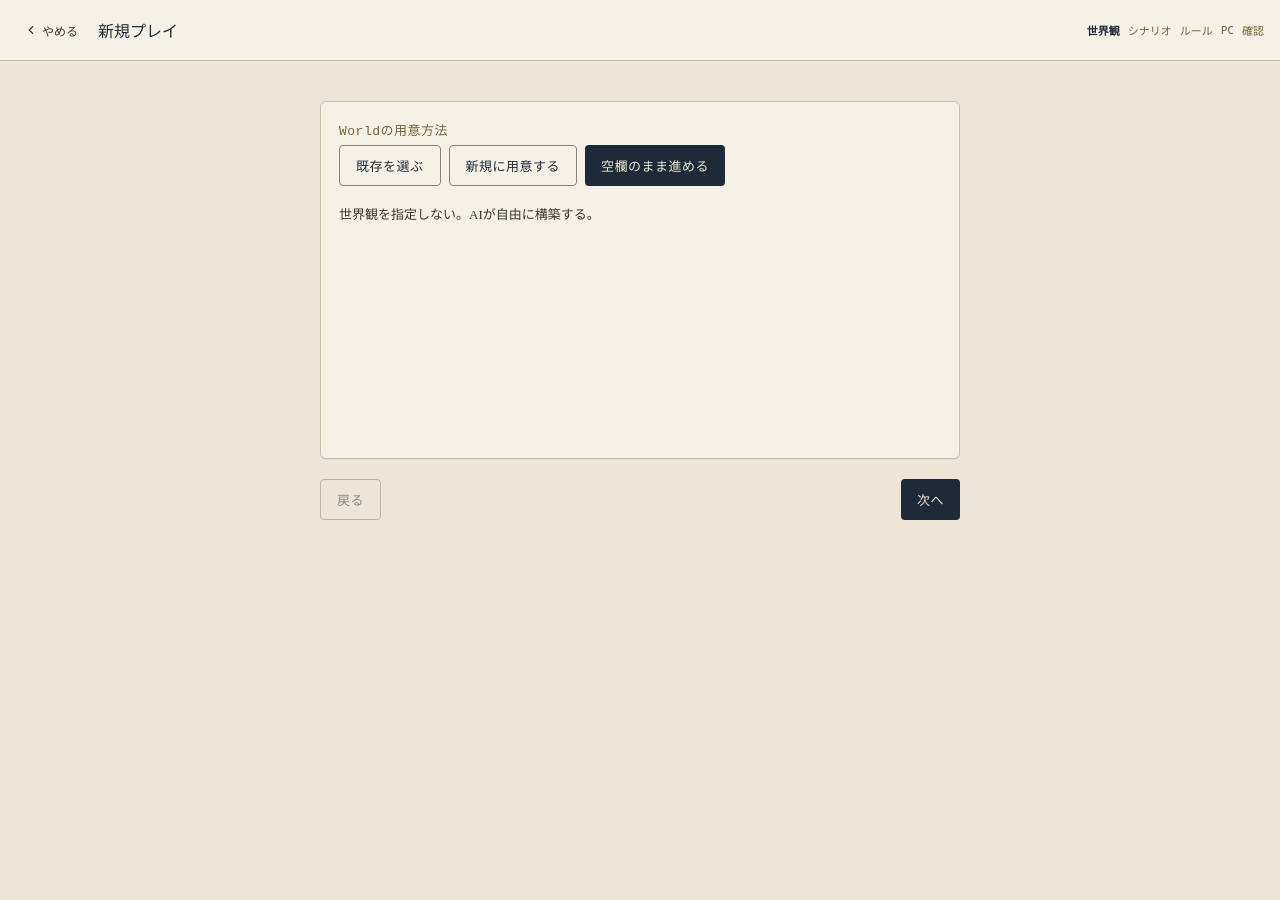
Setup › asks for confirmation before leaving once the wizard has unsaved input
The width and height of the screenshot is (1280, 900).
Click the button "新規に用意する" at (513, 166), box [448,145,577,186]
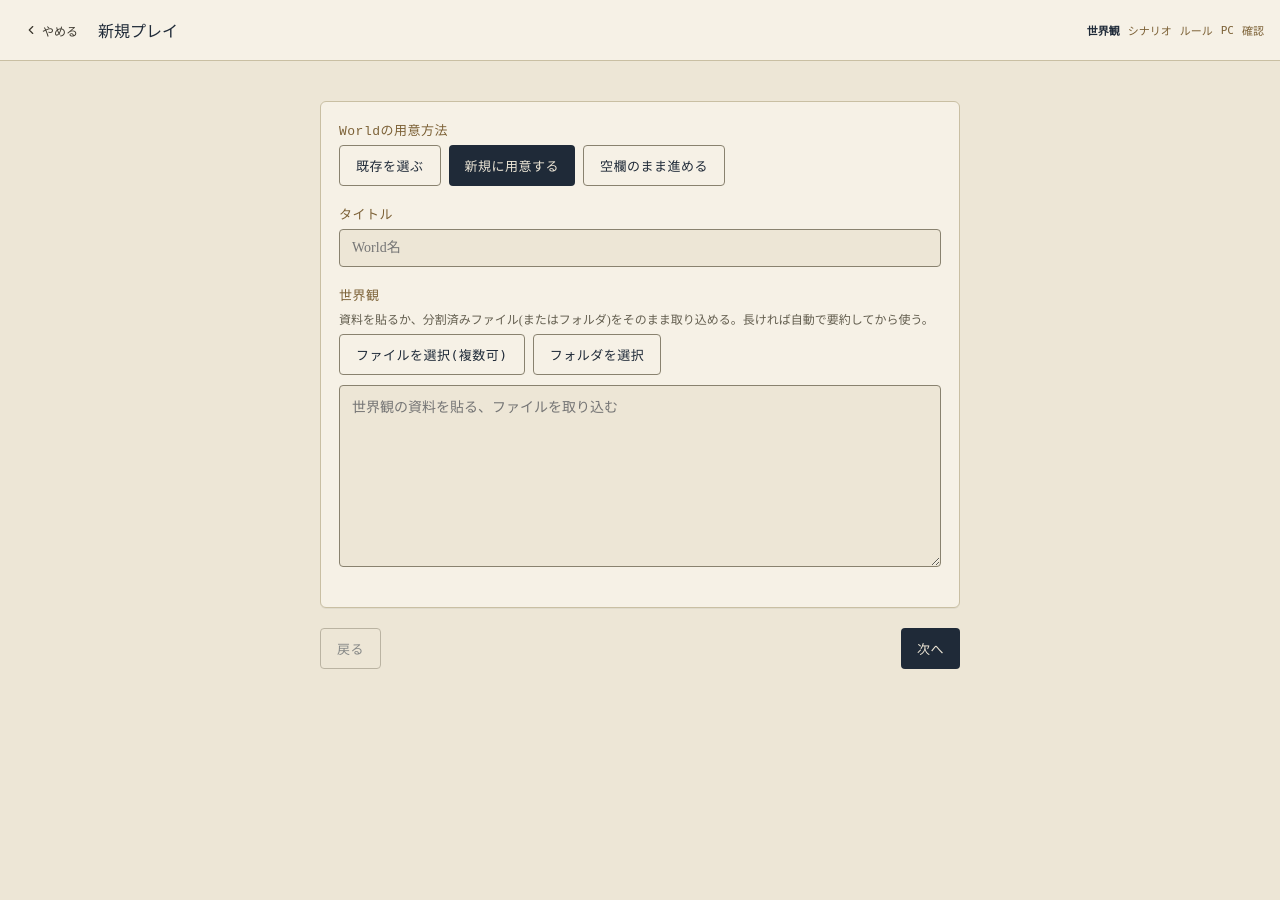
Type "中世風の島国" into the text box with placeholder "世界観の資料を貼る、ファイルを取り込む" at (640, 476), box [339,385,941,567]
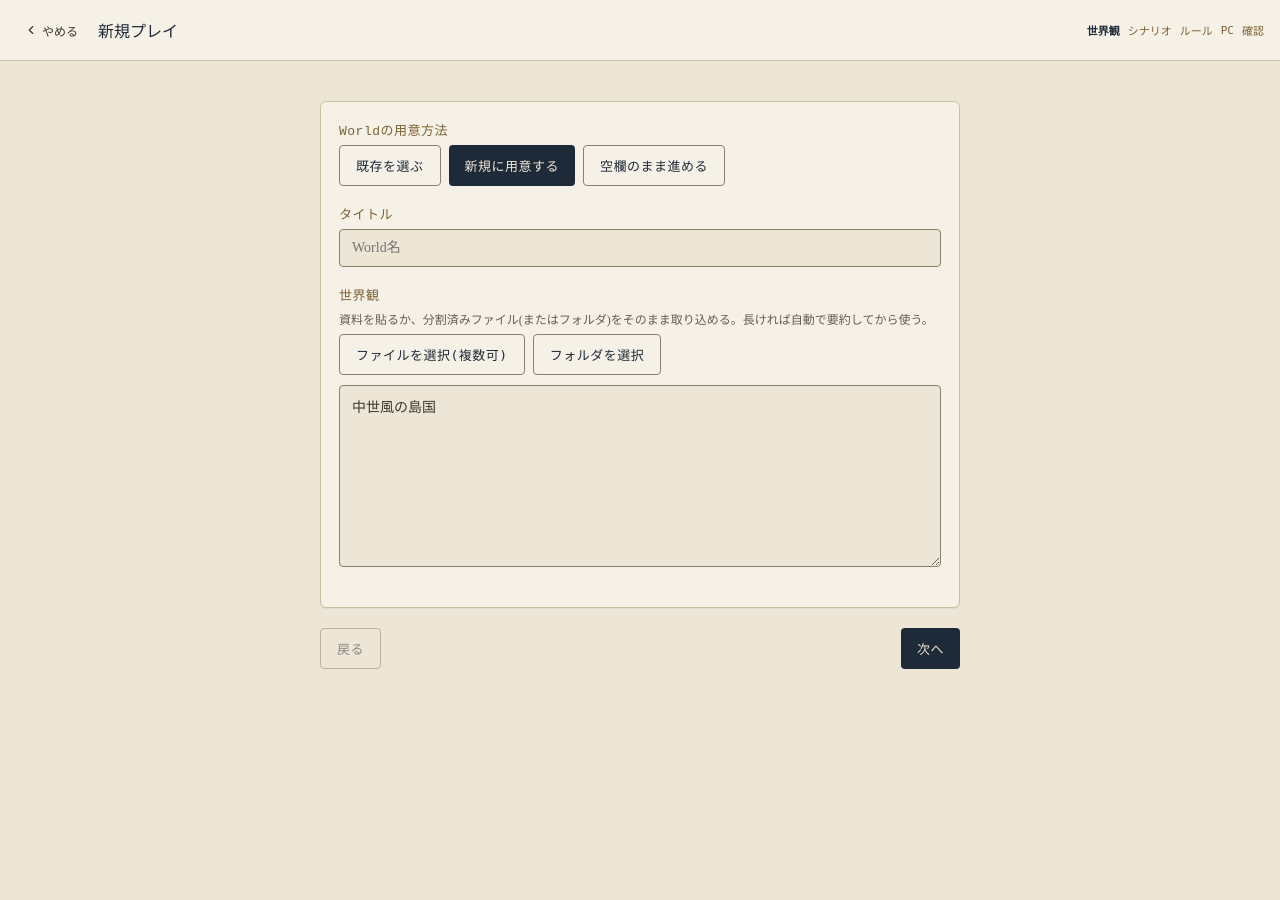
Click the button "やめる" at (51, 30), box [16,8,86,52]
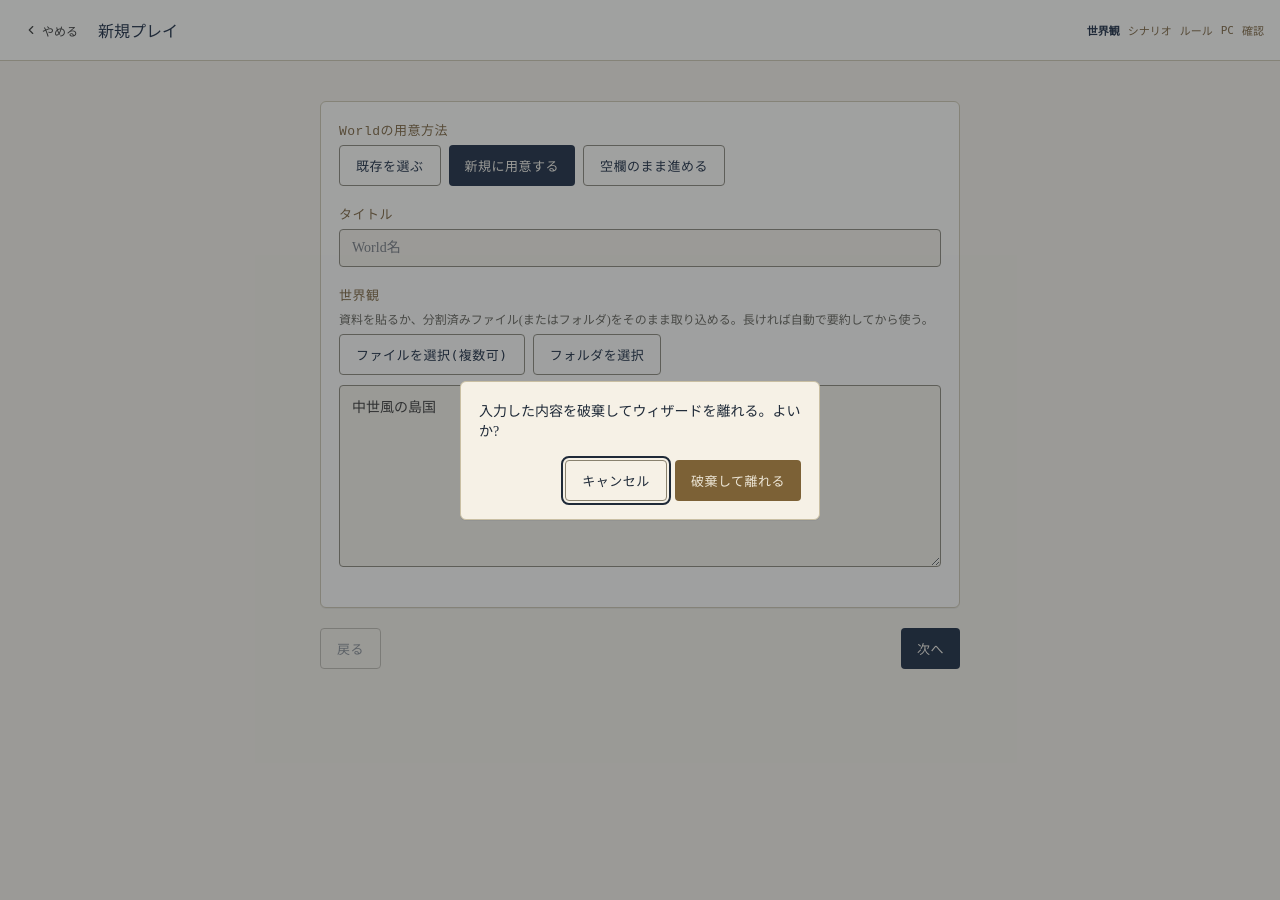
Check: the text "入力した内容を破棄してウィザードを離れる。よいか?" is shown, box [479,400,801,440]
